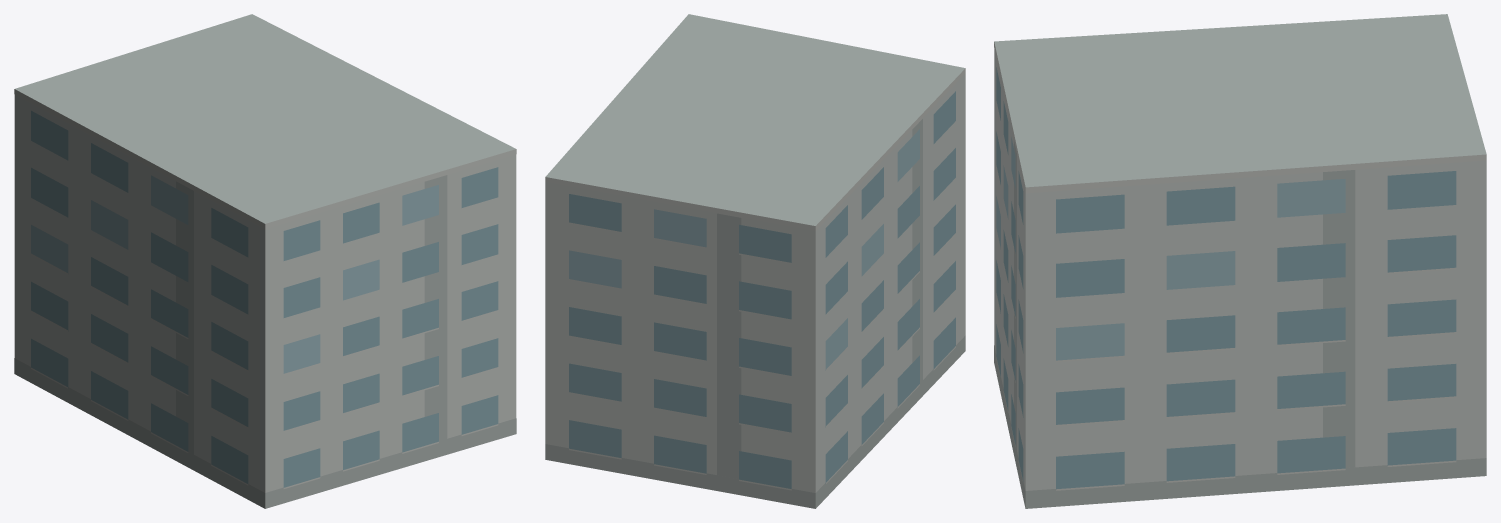
File: survey-upis-32574418.glb
3 renders of one model, left to right at view 1: azimuth 30°, elevation 25°; view 2: azimuth 150°, elevation 25°; view 3: azimuth 270°, elevation 25°, orthographic. The views are drawn at different scales.
Parts seen in each view (by area): view 1: survey-upis-32574418.tmp; view 2: survey-upis-32574418.tmp; view 3: survey-upis-32574418.tmp.
Boxes of the visible parts, box(x1,y1,x2,y2) form: survey-upis-32574418.tmp: box(14, 14, 516, 508); survey-upis-32574418.tmp: box(545, 14, 965, 508); survey-upis-32574418.tmp: box(994, 14, 1486, 508).
Bounding box in the file's own units: 15.04 × 13 × 18.06.
